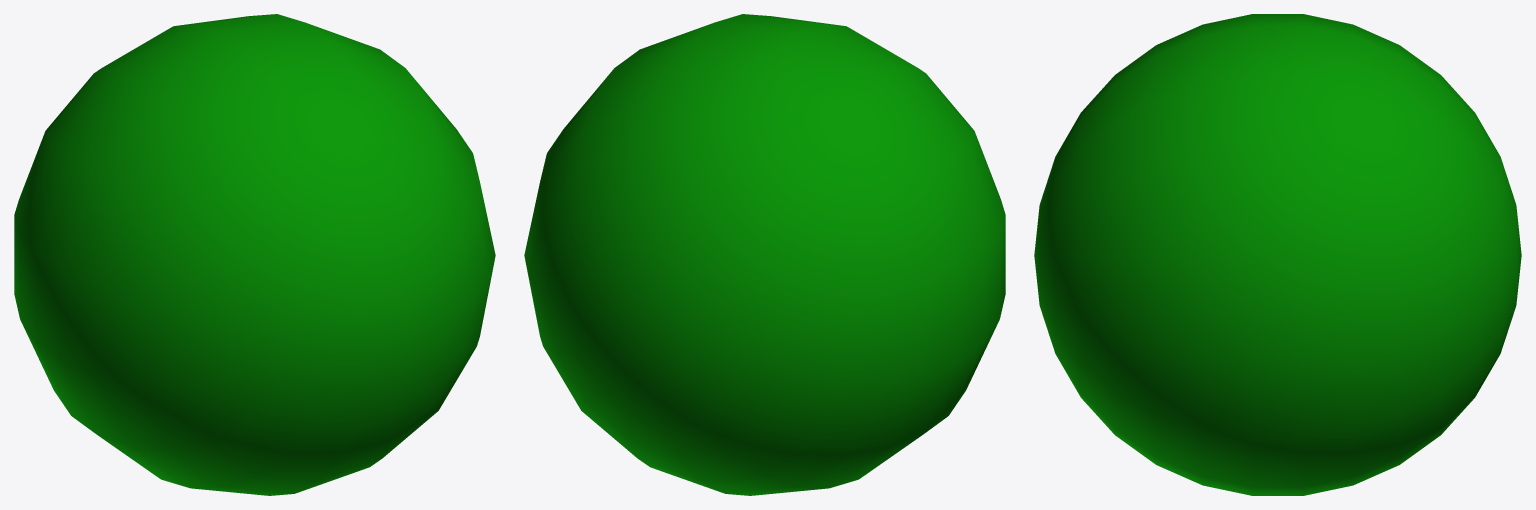
The model's file is Rowling.fbx.
3 views of the same model, side by side, from view 1: azimuth 30°, elevation 25°; view 2: azimuth 150°, elevation 25°; view 3: azimuth 270°, elevation 25° (orthographic).
Parts seen in each view (by area): view 1: pSphere1; view 2: pSphere1; view 3: pSphere1.
Boxes of the visible parts, x1,y1,x2,y2 form: pSphere1: (14, 14, 495, 495); pSphere1: (524, 14, 1005, 495); pSphere1: (1034, 14, 1521, 495).
Bounding box in the file's own units: 1.57 × 1.58 × 1.6.
1 material, 1 textured.
